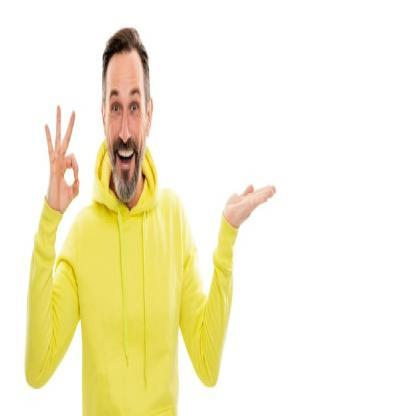thumb_up: (42, 100, 80, 214)
